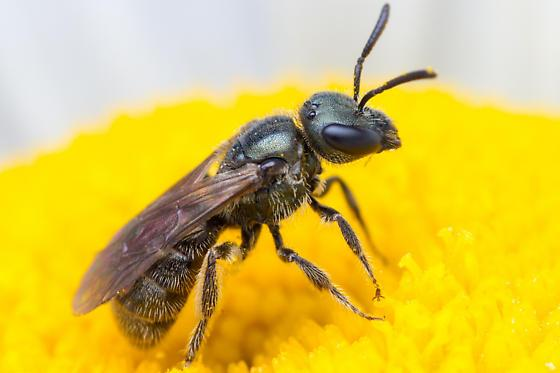Lasioglossum: (80, 2, 440, 364)
